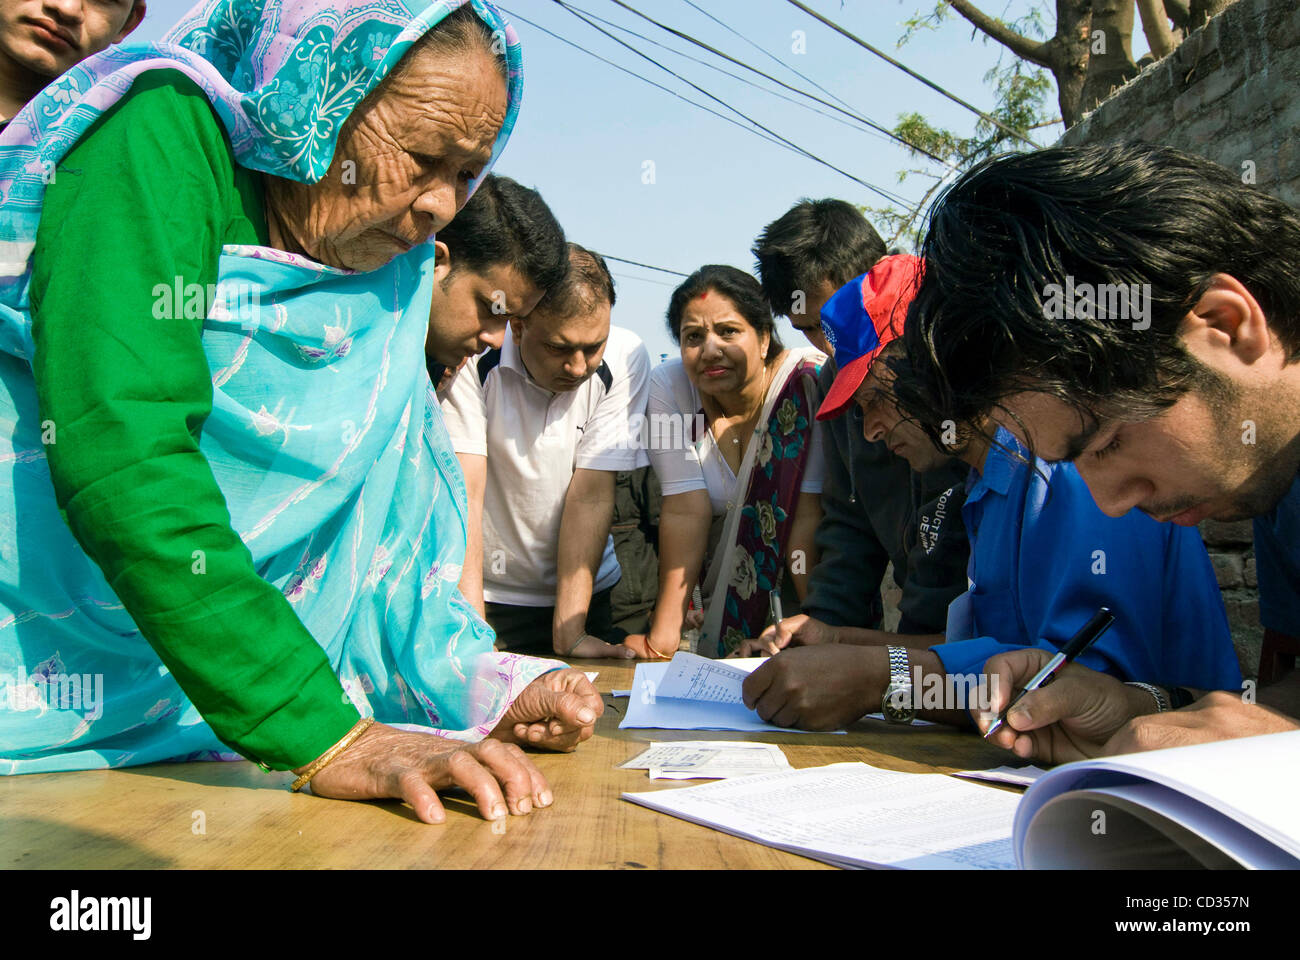human: (1, 1, 622, 832), (903, 127, 1300, 768), (630, 239, 834, 693), (446, 229, 639, 658)
